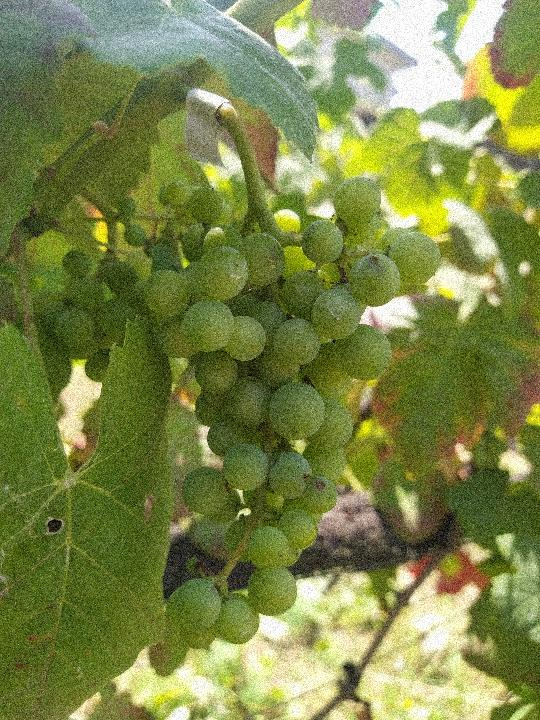grape: (143, 172, 449, 653)
